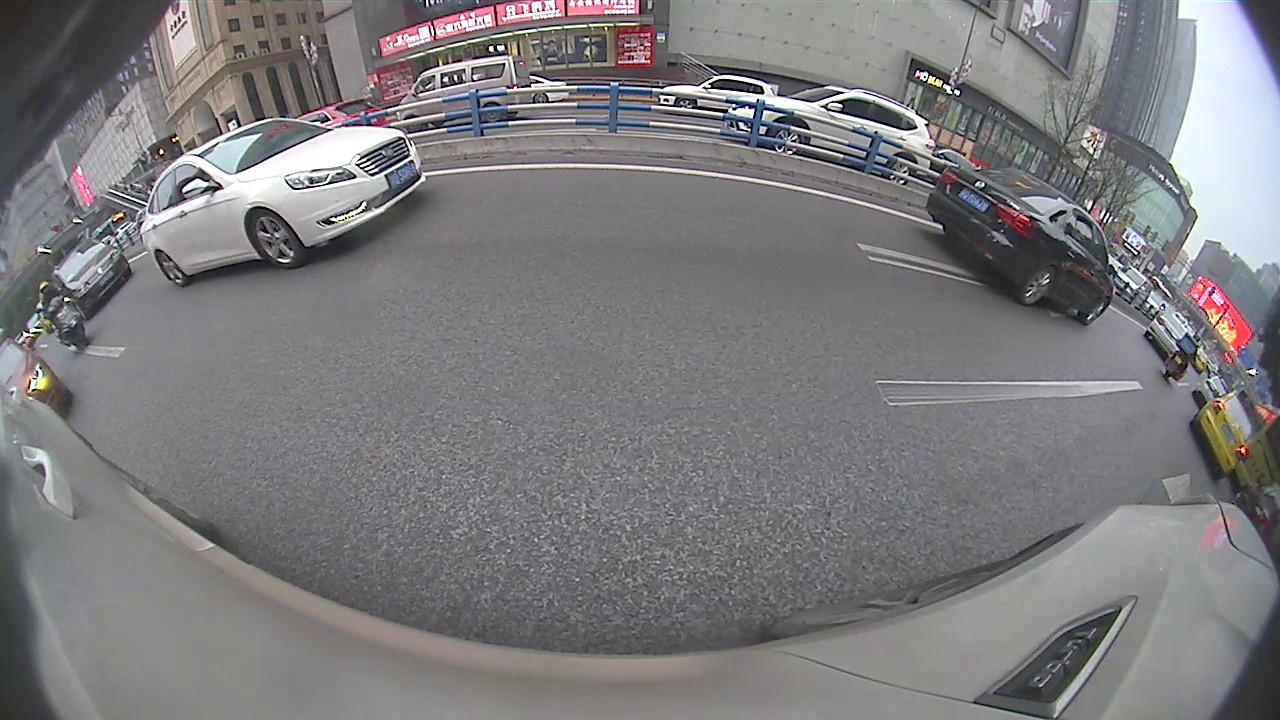car: (137, 116, 427, 288), (924, 165, 1117, 327), (722, 60, 937, 186)
front: (251, 212, 301, 268), (770, 121, 809, 159), (1083, 297, 1110, 324)
rear: (1021, 268, 1059, 307), (156, 252, 187, 286)
